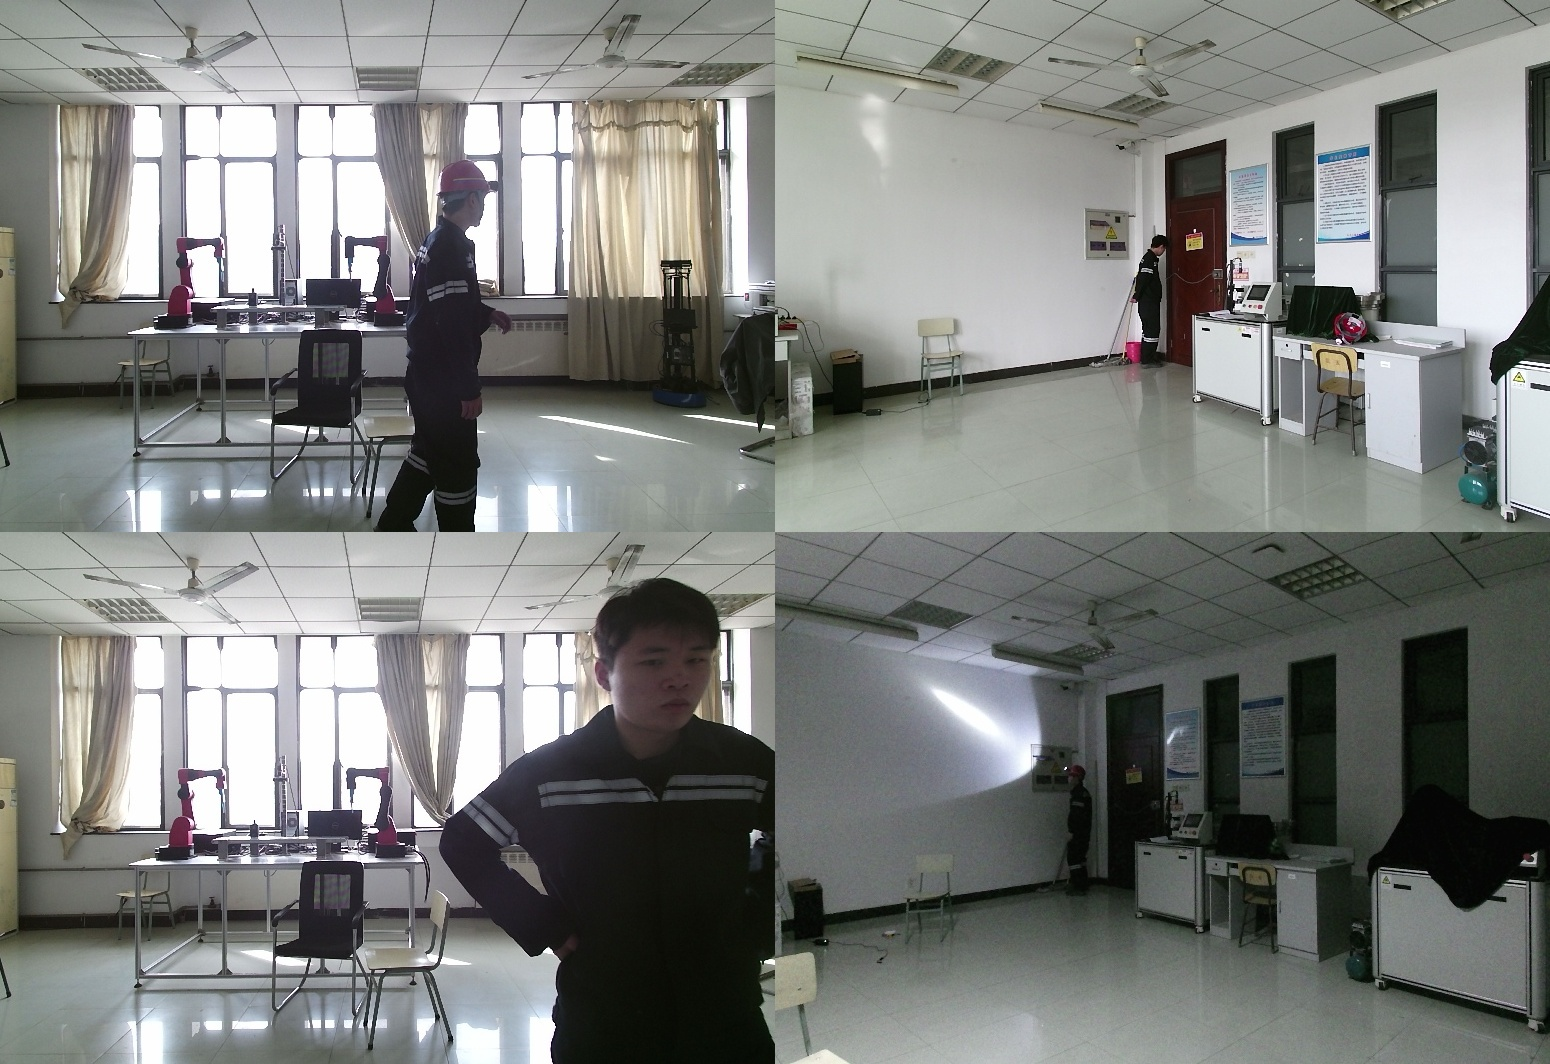person: (442, 581, 775, 1064), (382, 161, 525, 532), (1132, 236, 1173, 374), (1061, 764, 1096, 899)
